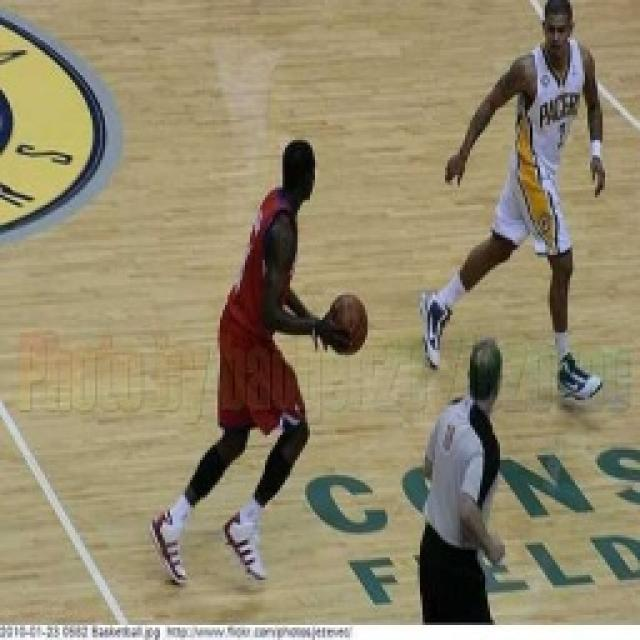basketball: (327, 293, 370, 357)
